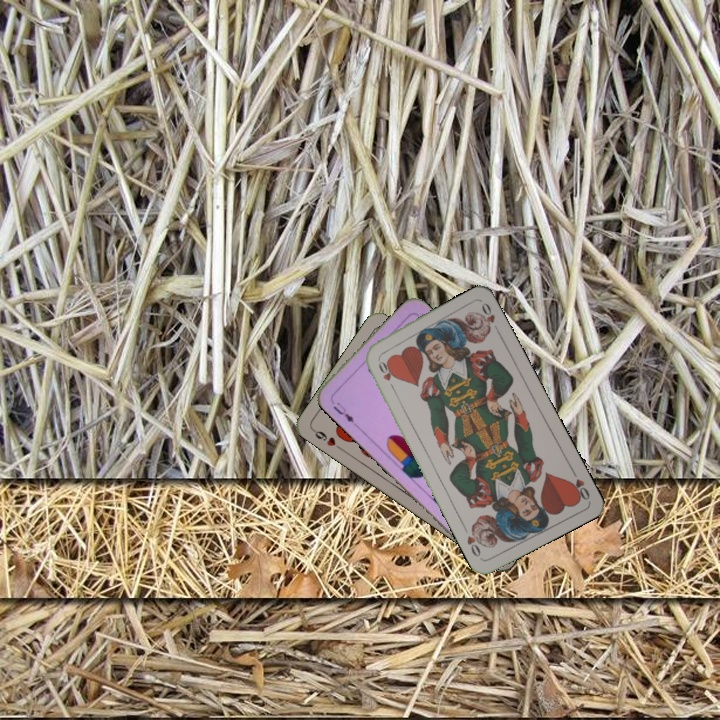EU: (329, 398, 357, 426)
H9: (308, 425, 344, 453)
HO: (566, 465, 592, 503), (374, 354, 397, 393)
